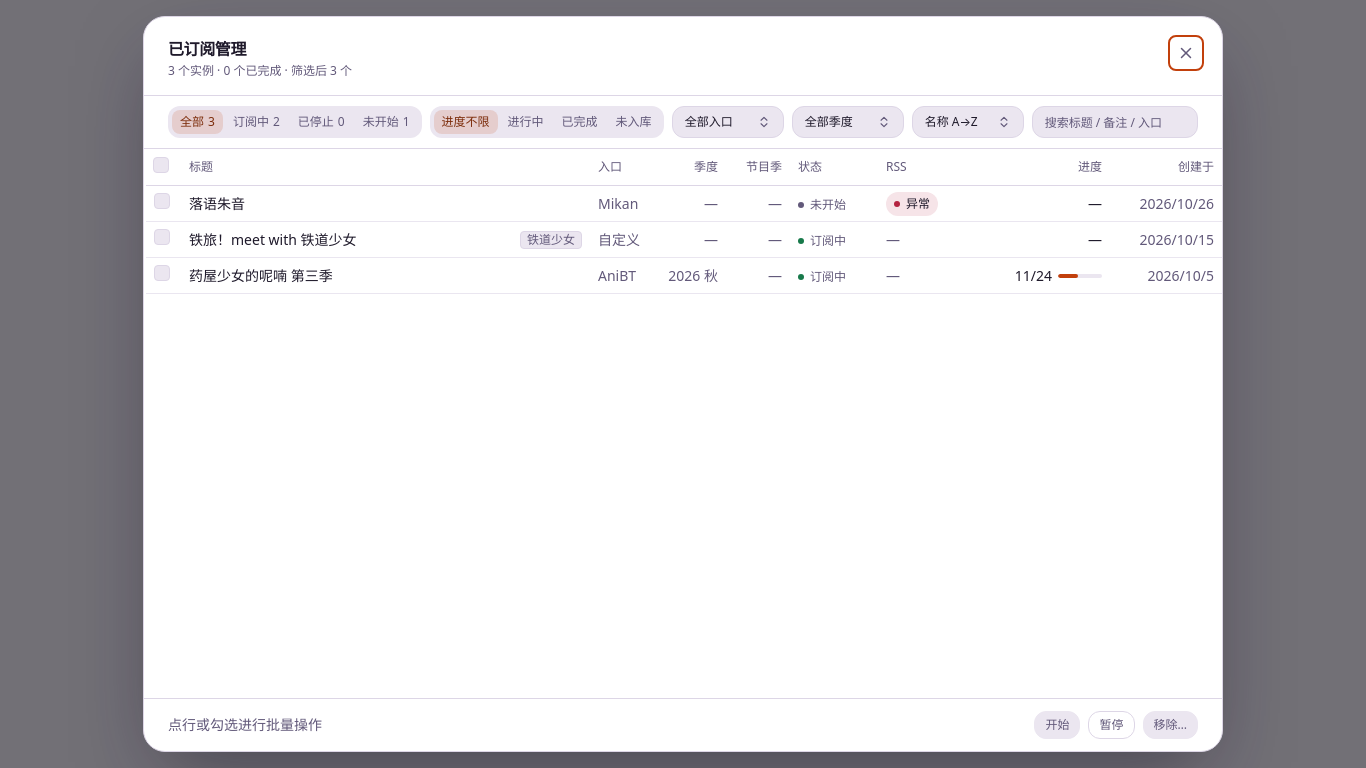
Test case: SubscribedManageDialog（已订阅批量管理） › 未选时批量按钮不可用；全选后可开始/暂停，暂停对纯未开始置灰说明
The image size is (1366, 768).
Expected: the text "落语朱音" is shown, [189, 194, 245, 212]
Expected: the text "点行或勾选进行批量操作" is shown, [168, 715, 322, 734]
Click the checkbox named "全选" at (161, 165), box [153, 157, 169, 173]
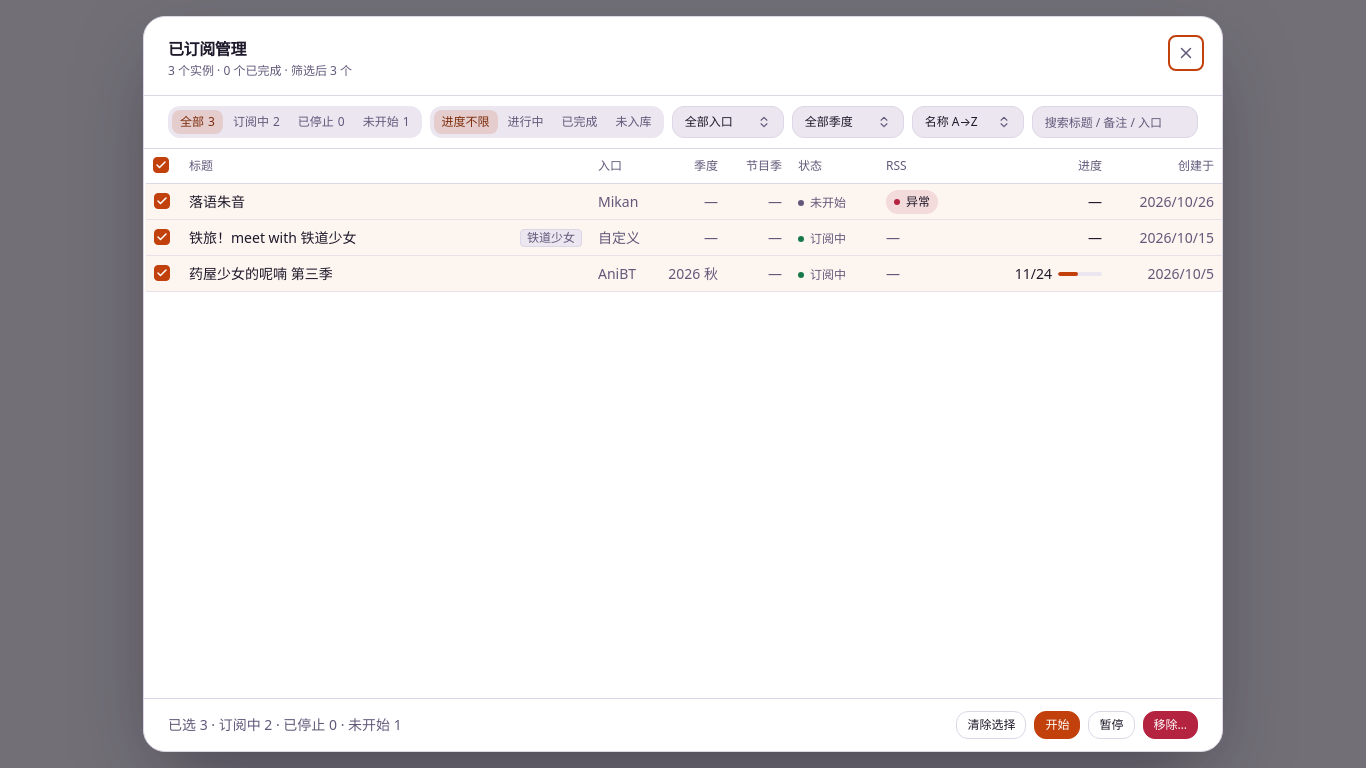
Now the button "开始" is enabled, box [1034, 711, 1080, 739]
Now the button "暂停" is enabled, box [1088, 711, 1134, 739]
# 只剩未开始的一条（先清除全选，再点它的行）：暂停置灰并给出原因，开始可用。
Click the button "清除选择" at (992, 725), box [956, 711, 1026, 739]
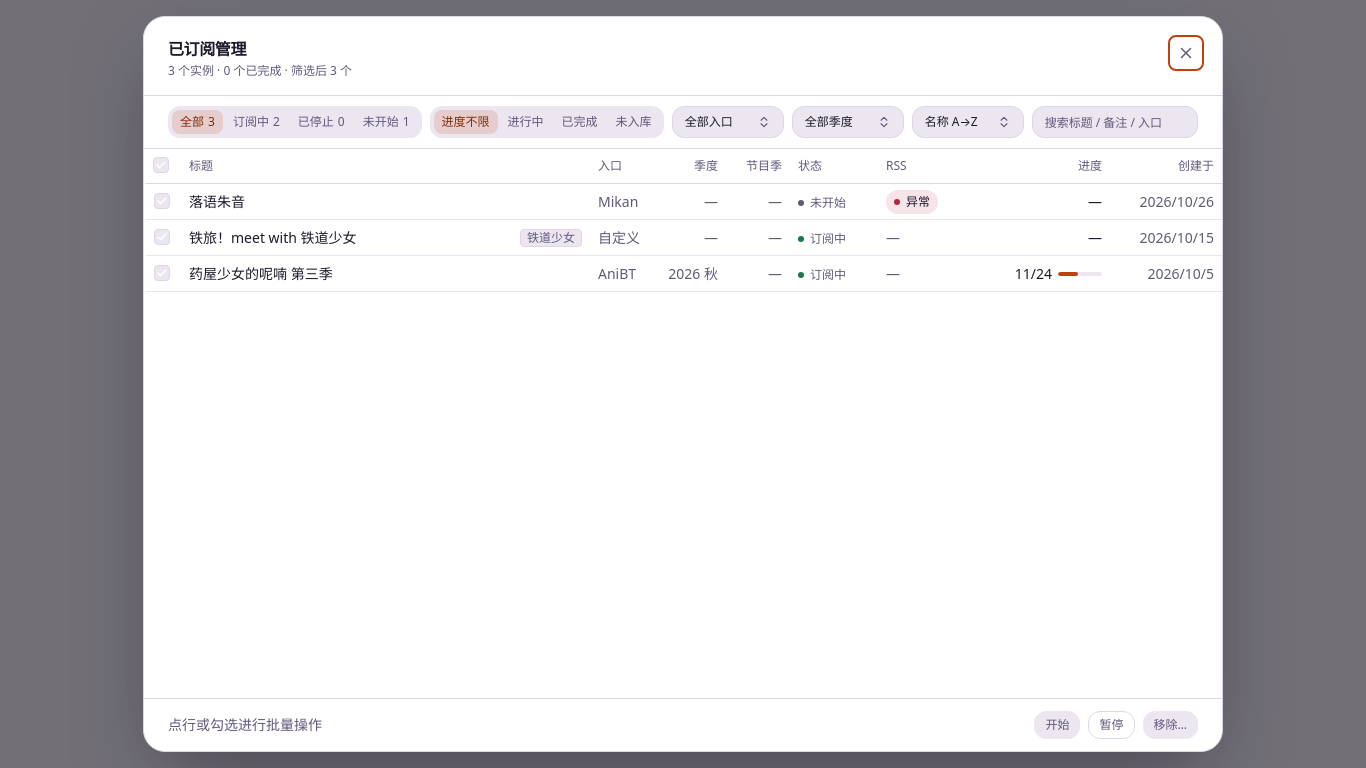
Click the text "落语朱音" at (217, 201), box [189, 192, 245, 210]
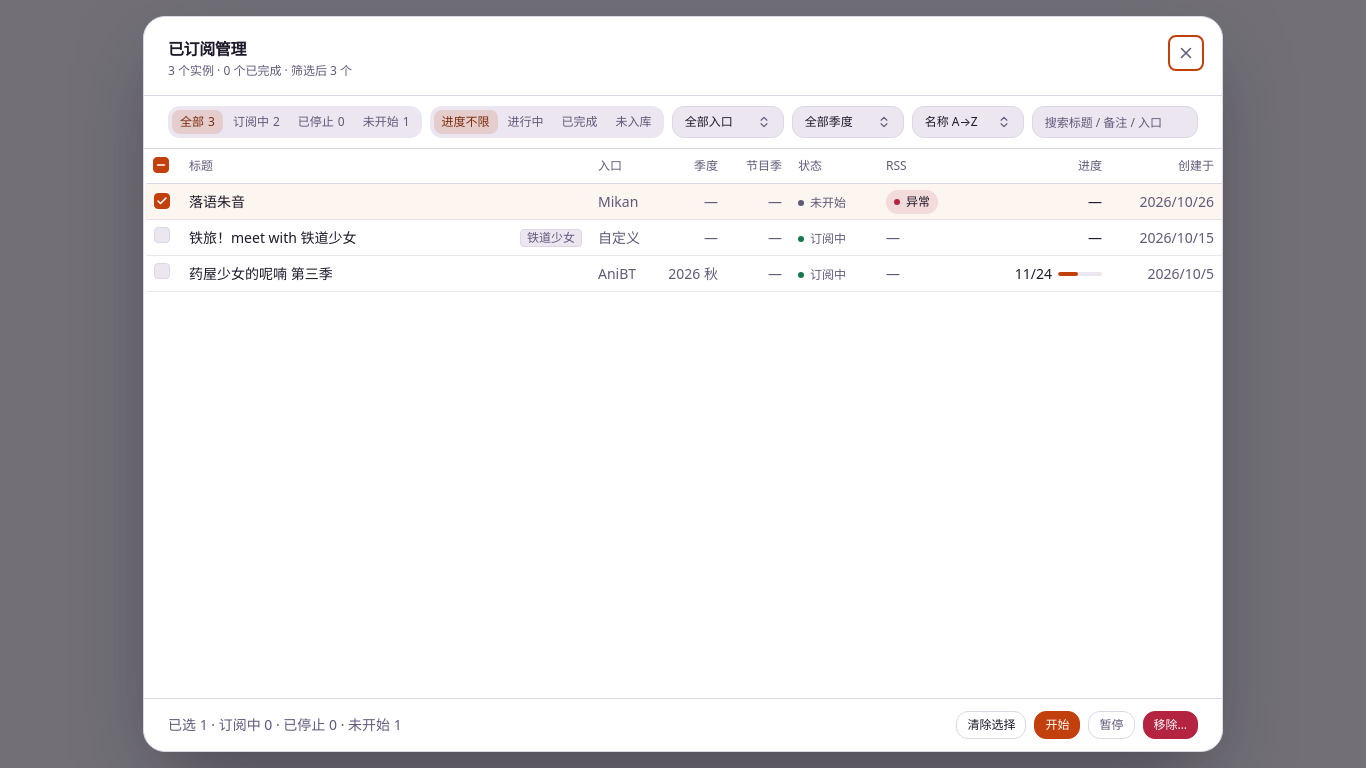
Now the button "暂停" is disabled, box [1088, 711, 1134, 739]
Now the button "开始" is enabled, box [1034, 711, 1080, 739]
